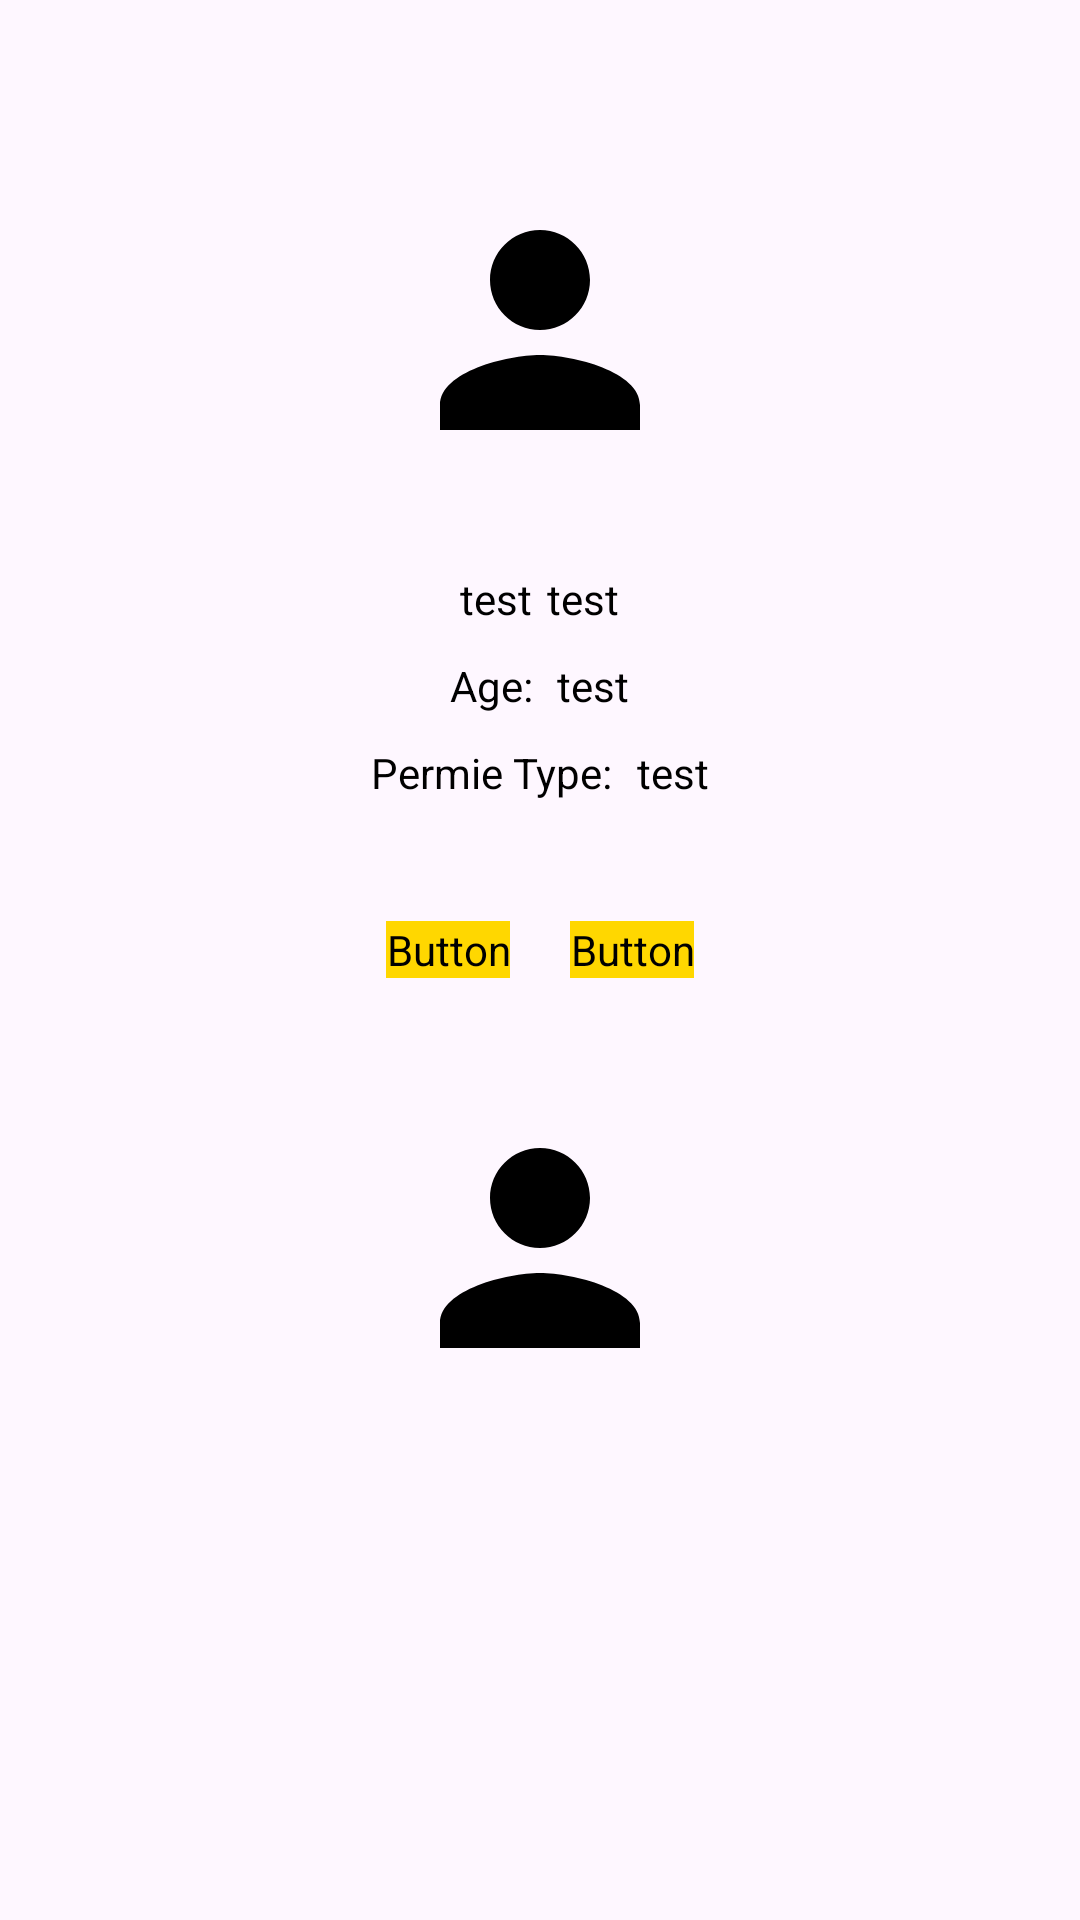

Screen size 1080px x 1920px. Icon name, then its box in pixels as (x1, y1, x2, y2):
user profile: (440, 230, 640, 430), (440, 1148, 640, 1348)
